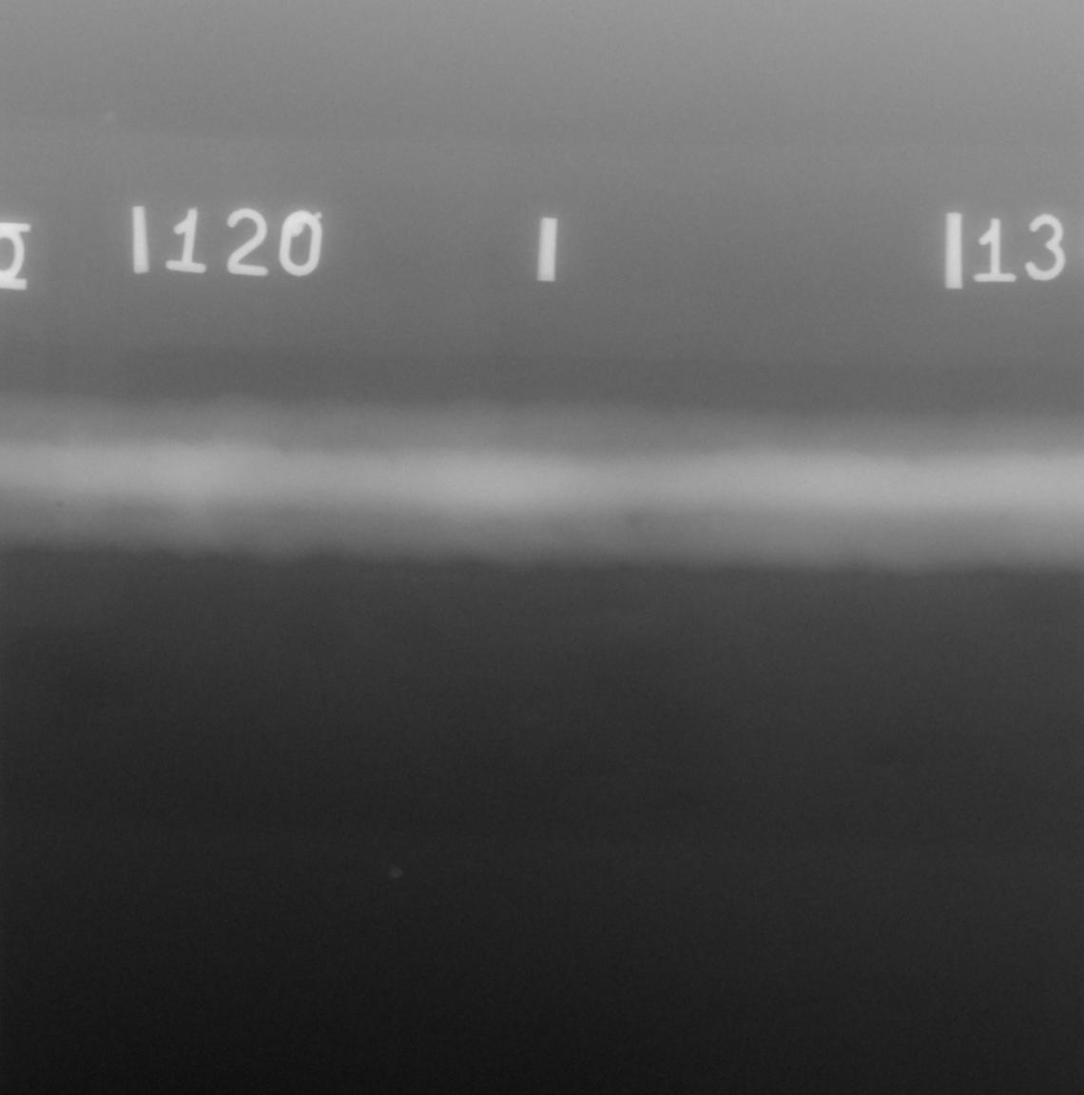Pore/Porosity: (57, 502, 62, 508)
